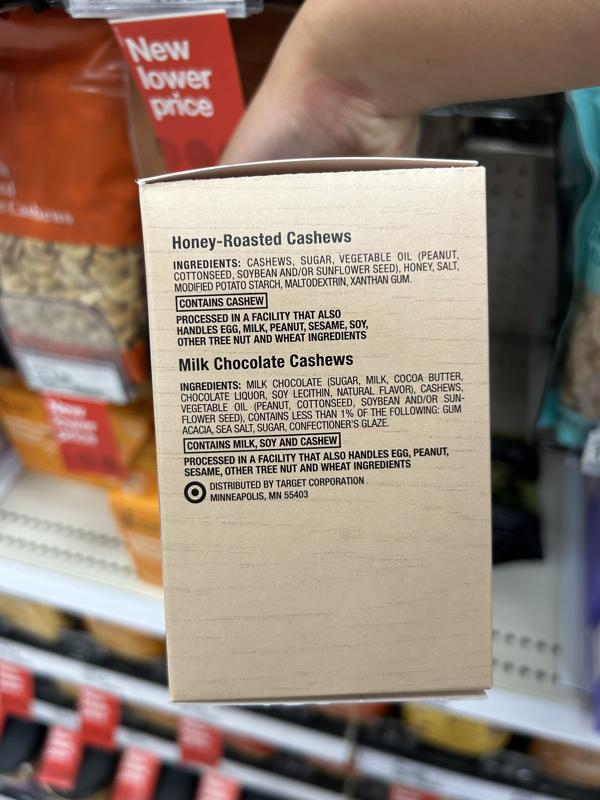ingredients: (170, 249, 462, 295)
